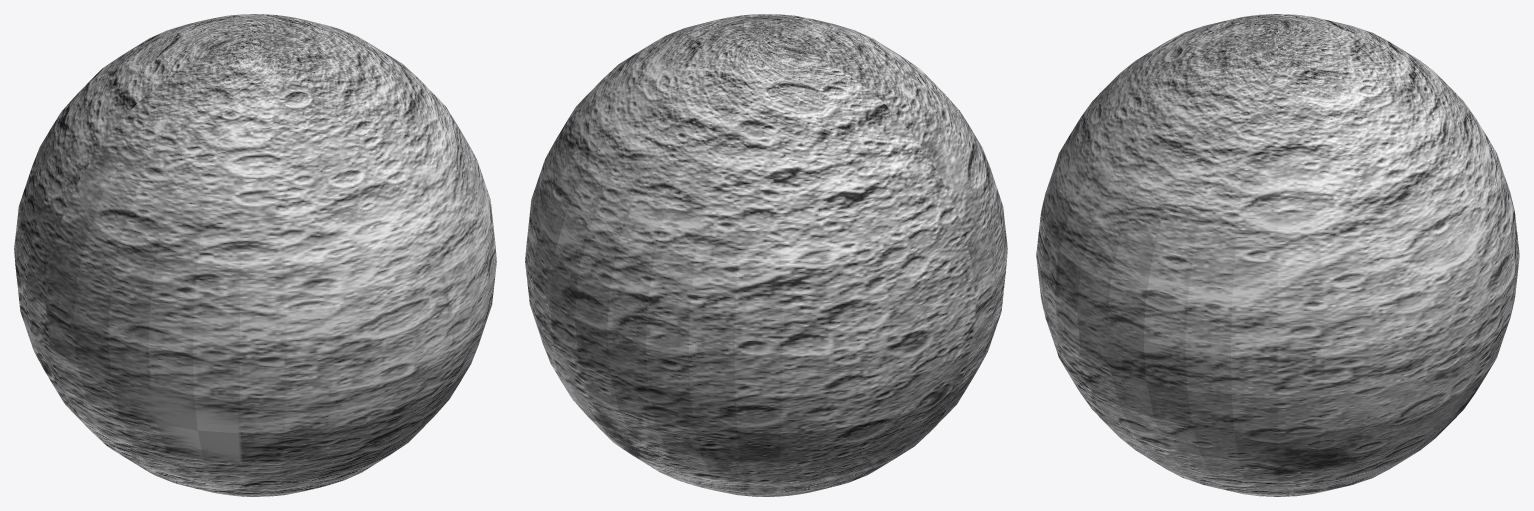
The model's file is ALuna.gltf.
The picture shows the model from 3 angles, left to right: view 1: azimuth 30°, elevation 25°; view 2: azimuth 150°, elevation 25°; view 3: azimuth 270°, elevation 25°; orthographic projection.
Parts seen in each view (by area): view 1: Sphere; view 2: Sphere; view 3: Sphere.
Boxes of the visible parts, bbox=[...] form: Sphere: bbox=[14, 14, 496, 496]; Sphere: bbox=[525, 14, 1007, 496]; Sphere: bbox=[1036, 14, 1519, 496].
Bounding box in the file's own units: 2 × 2 × 2.
1 material, 1 textured.
